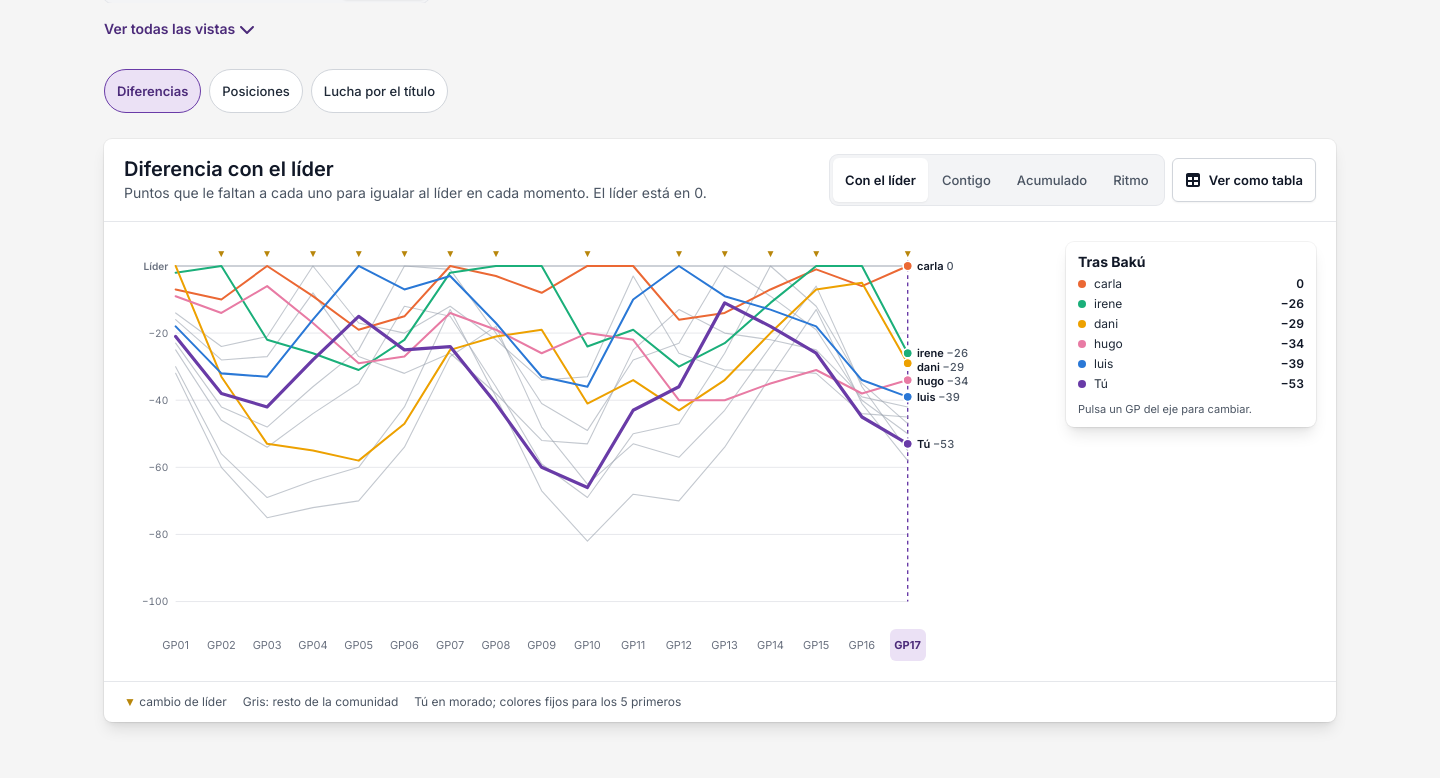
Screens behind feature flags › R5 pins a GP on the axis and switches to the table
The width and height of the screenshot is (1440, 778).
(page scrolled)
Expected: the element named "Elegir Gran Premio" is shown, 158,629 -> 926,661
Click the button with aria-label "Ver tras " at [176, 645], box 158,629 -> 194,661
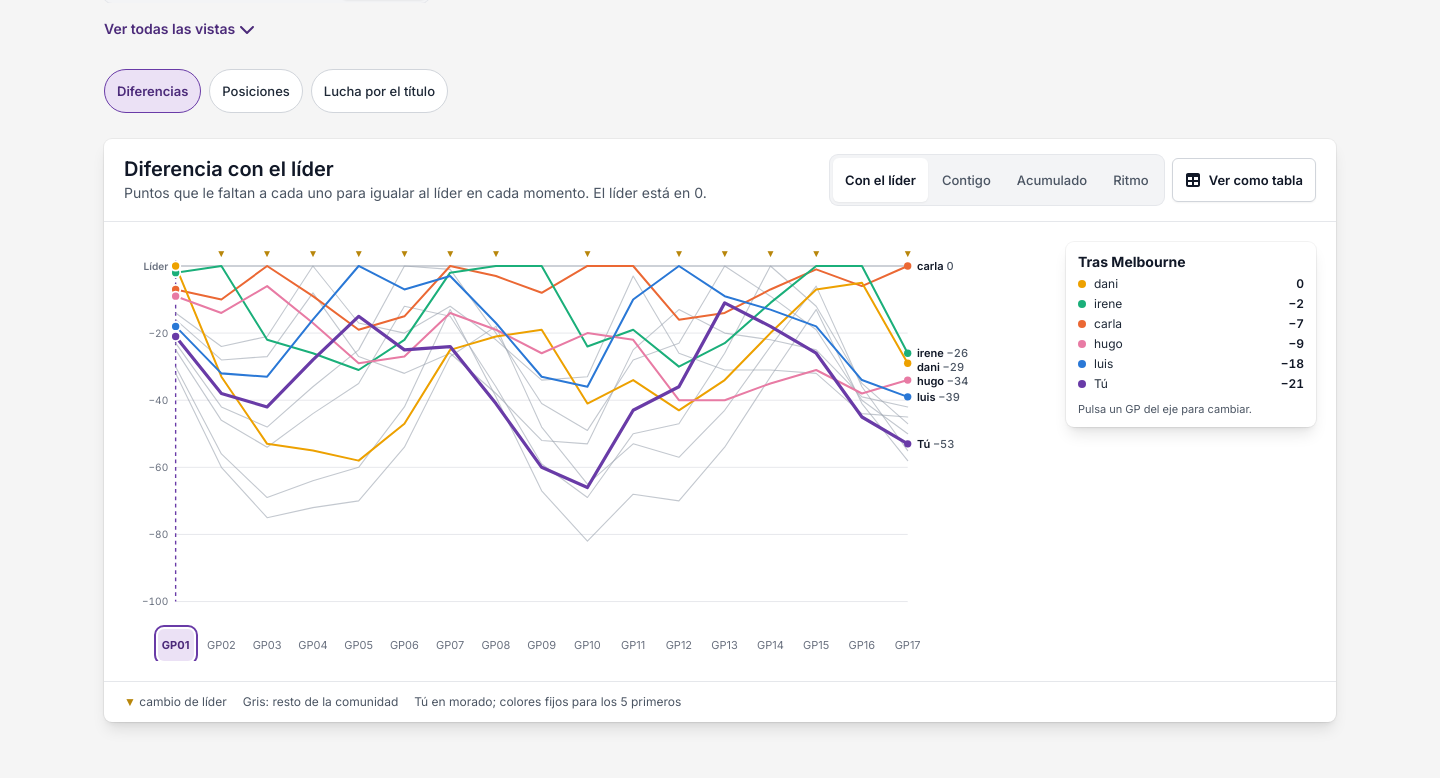
Expected: the text "Tras Melbourne" is shown, 1078,253 -> 1186,270
Click the button "Contigo" at [966, 180], box 930,158 -> 1003,202
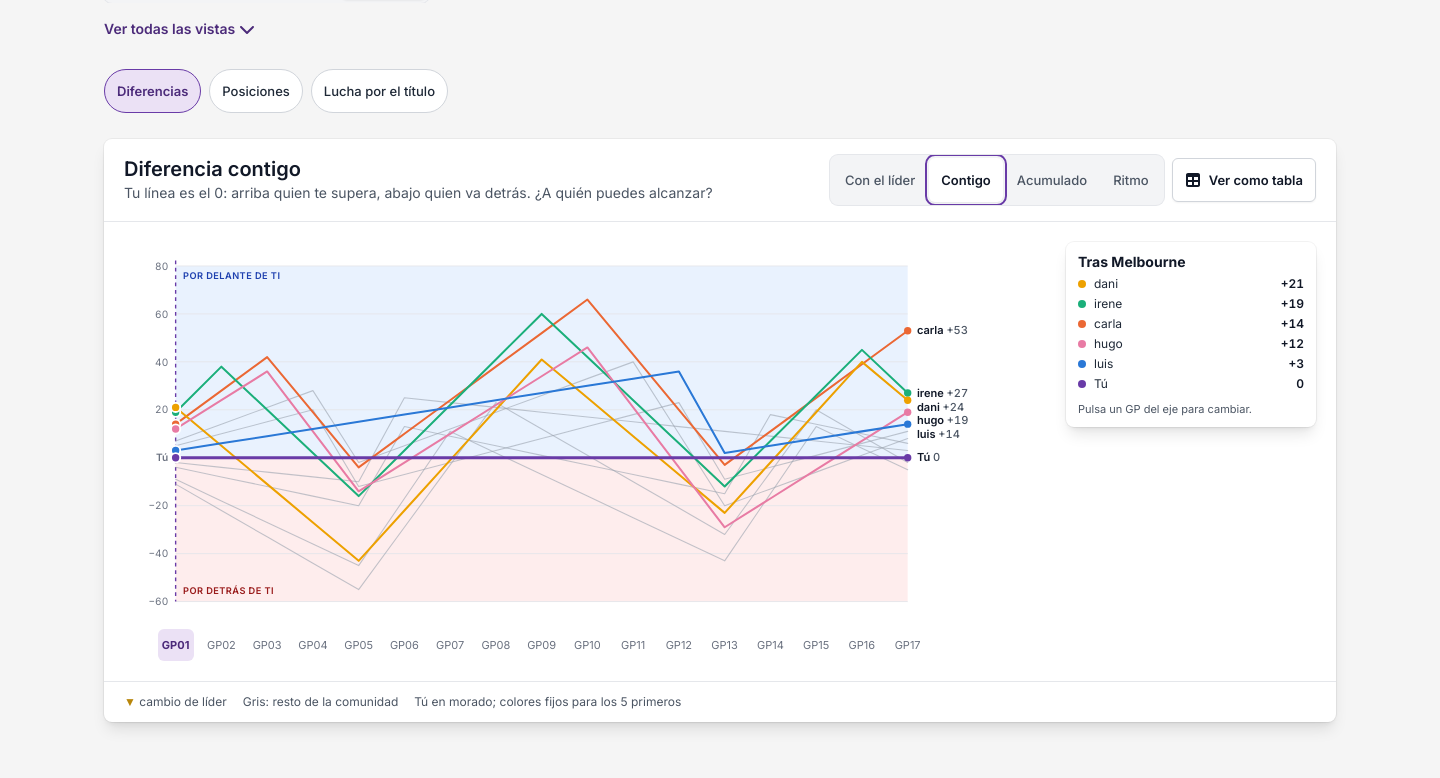
Expected: the heading "Diferencia contigo" is shown, 124,155 -> 301,183
Click the button "Ver como tabla" at [1244, 180], box 1172,158 -> 1316,202
(page scrolled)
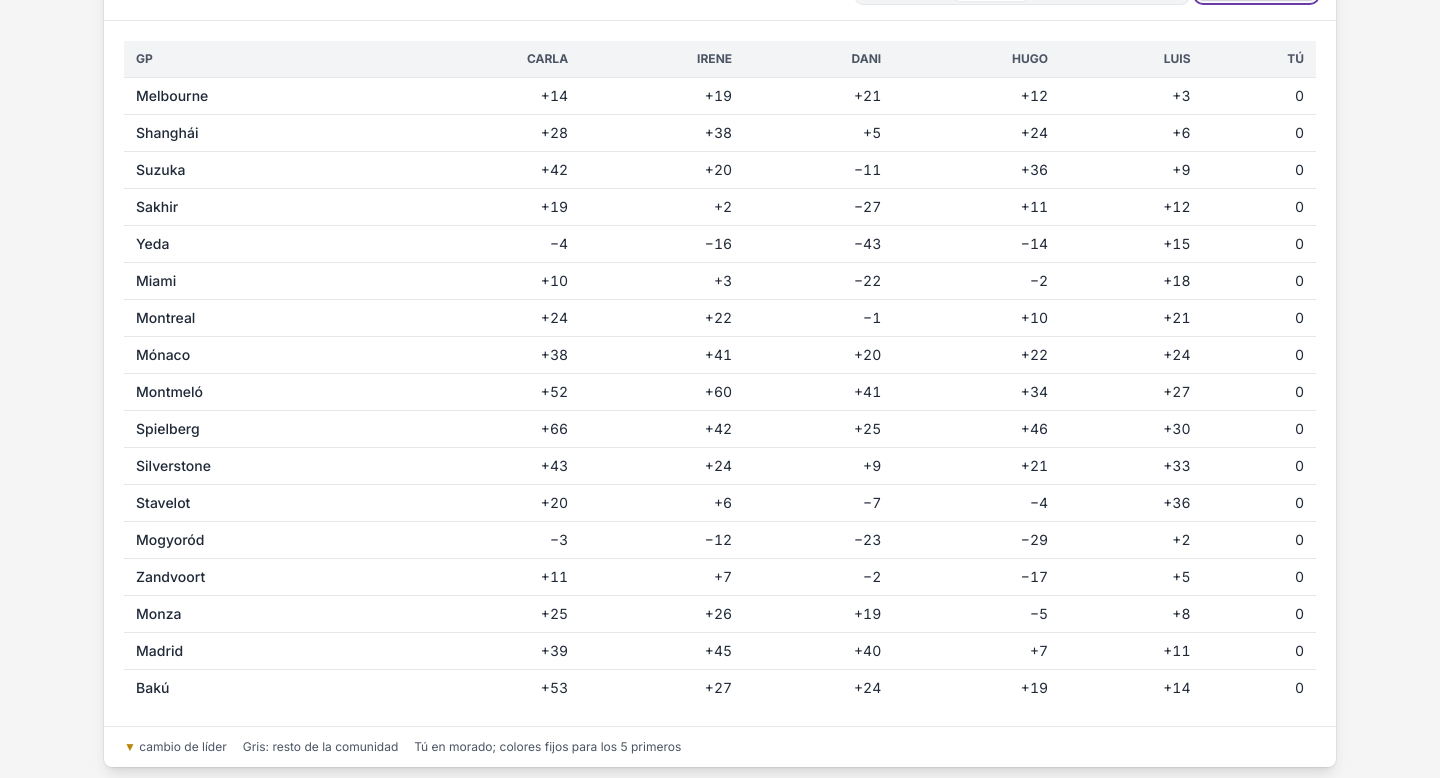
Expected: the table is shown
